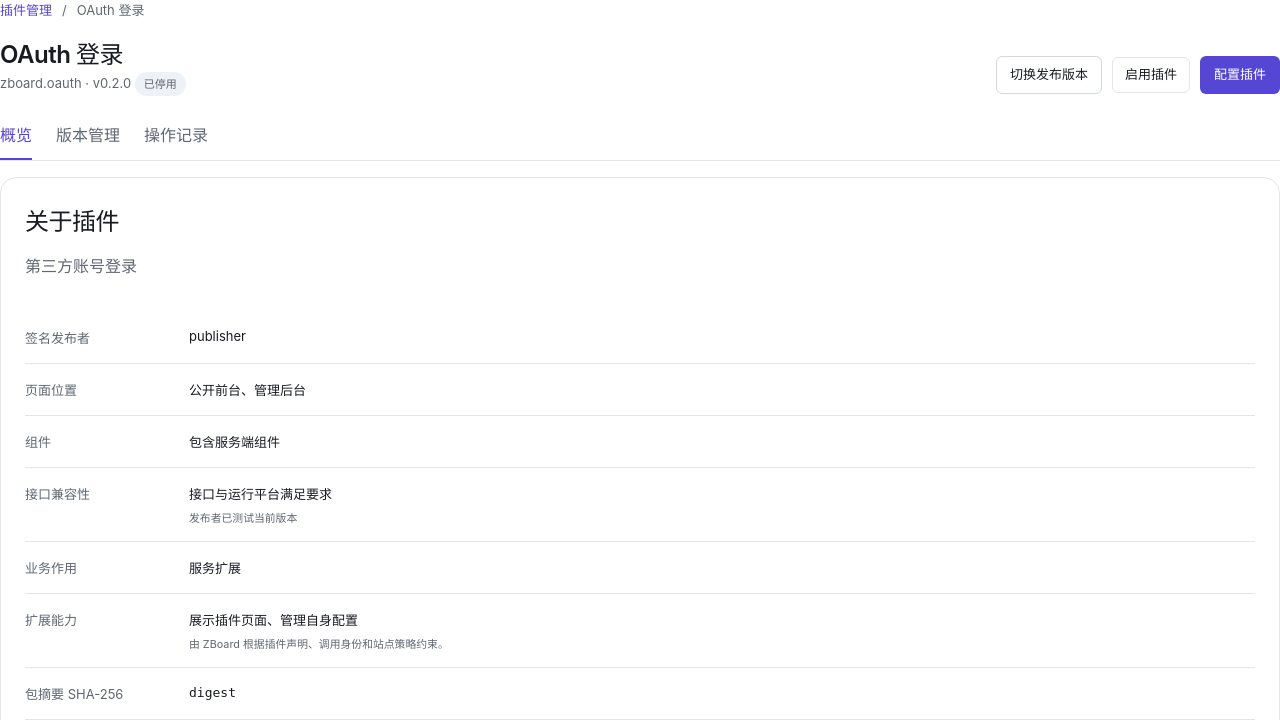
plugin management navigation › shows the host failure without a false success: admin required
The image size is (1280, 720).
Step 1. Click the button "启用插件" → {"x": 1151, "y": 74}, box [1112,56,1190,92]
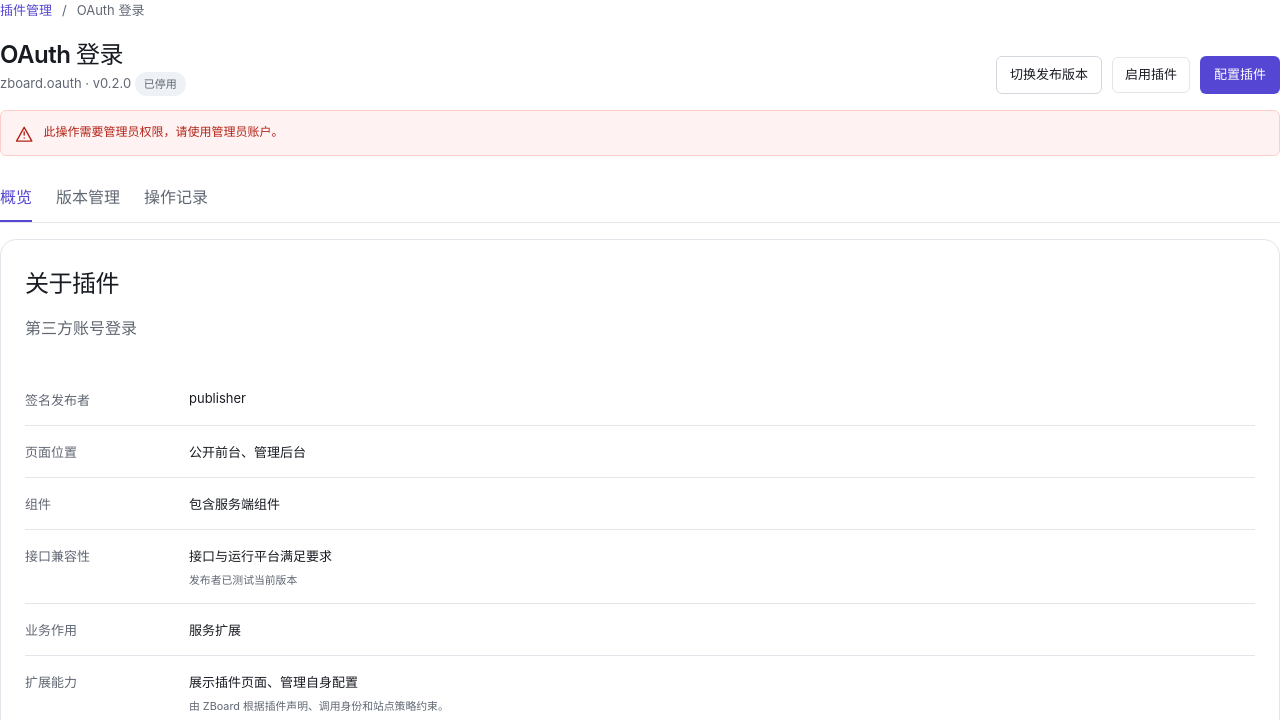
expect the text "此操作需要管理员权限" is shown: met, box [43,124,283,138]
